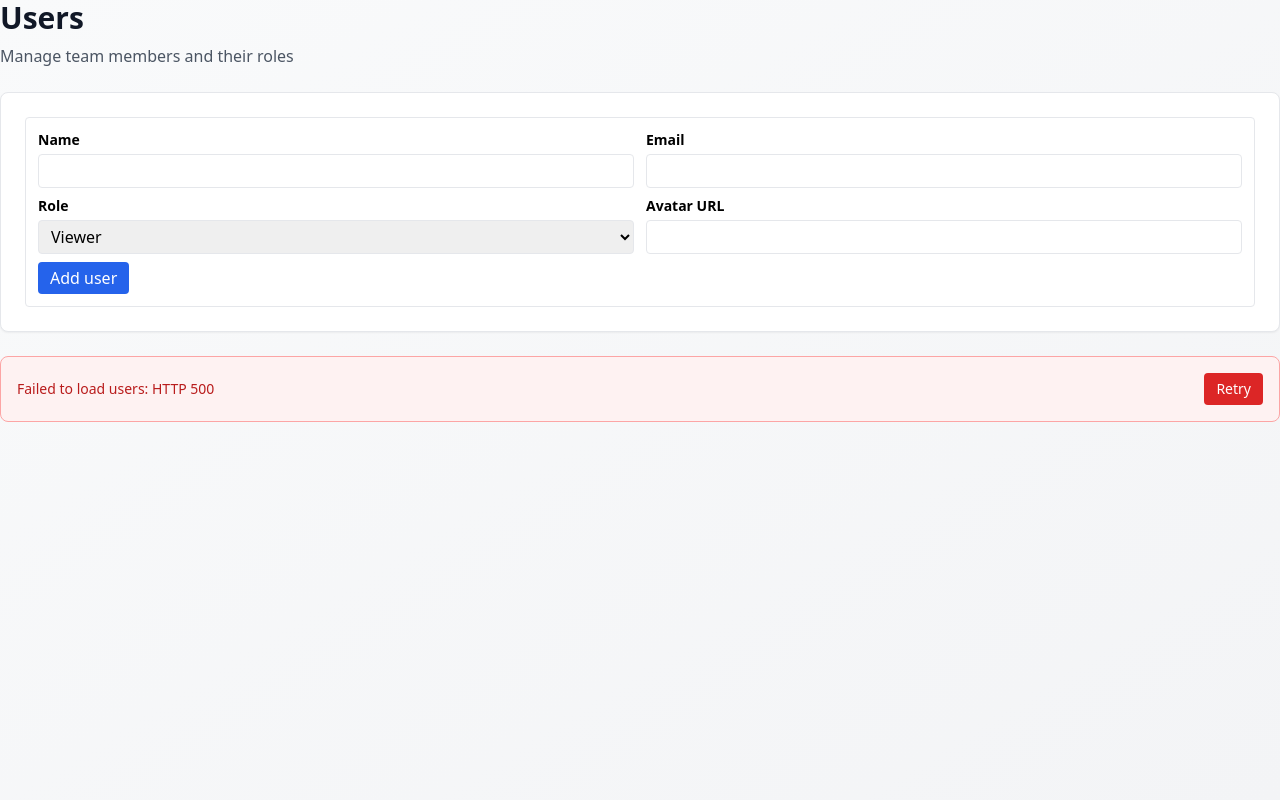
Test: Users list › shows a local error with Retry on an HTTP failure, and recovers the list on retry
Expected: the message shows "Failed to load users", [17,379,152,398]
Click the button "Retry" at (1234, 389), box [1204,373,1263,405]
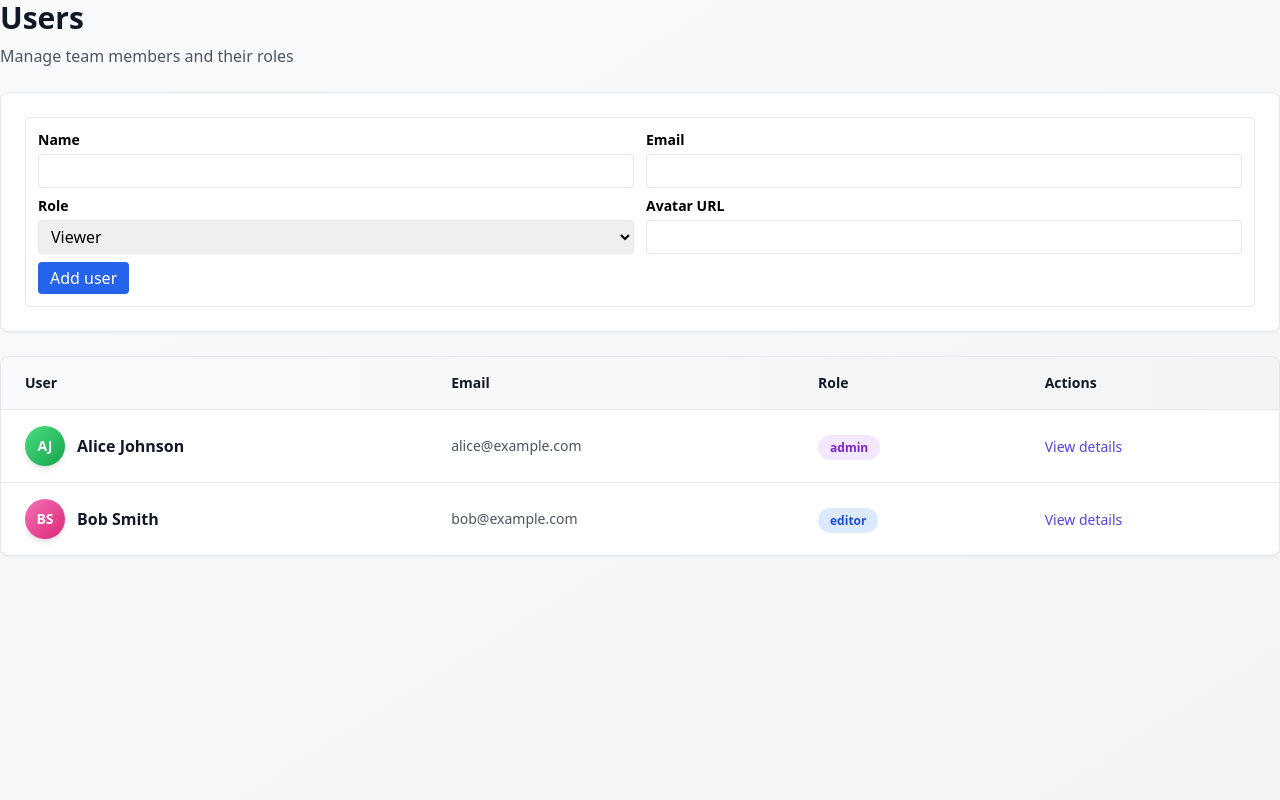
Expected: the message "Failed to load users: HTTP 500 Retry" is gone
